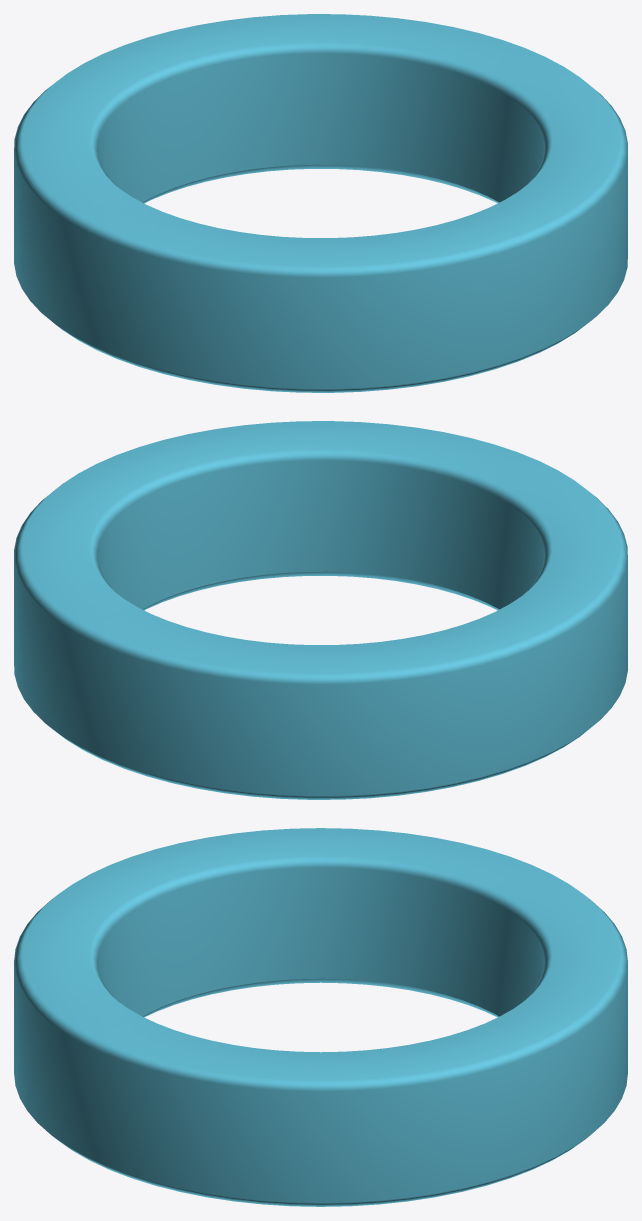
The picture shows the model from 3 angles, top to bottom: view 1: azimuth 30°, elevation 25°; view 2: azimuth 150°, elevation 25°; view 3: azimuth 270°, elevation 25°; orthographic projection.
Parts seen in each view (by area): view 1: seal_body; view 2: seal_body; view 3: seal_body.
Part boxes in pixels (x1,y1,x2,y2): seal_body: (14,14,627,392); seal_body: (14,421,627,799); seal_body: (14,828,627,1206).
Bounding box in the file's own units: 0.0698 × 0.0159 × 0.0698.
